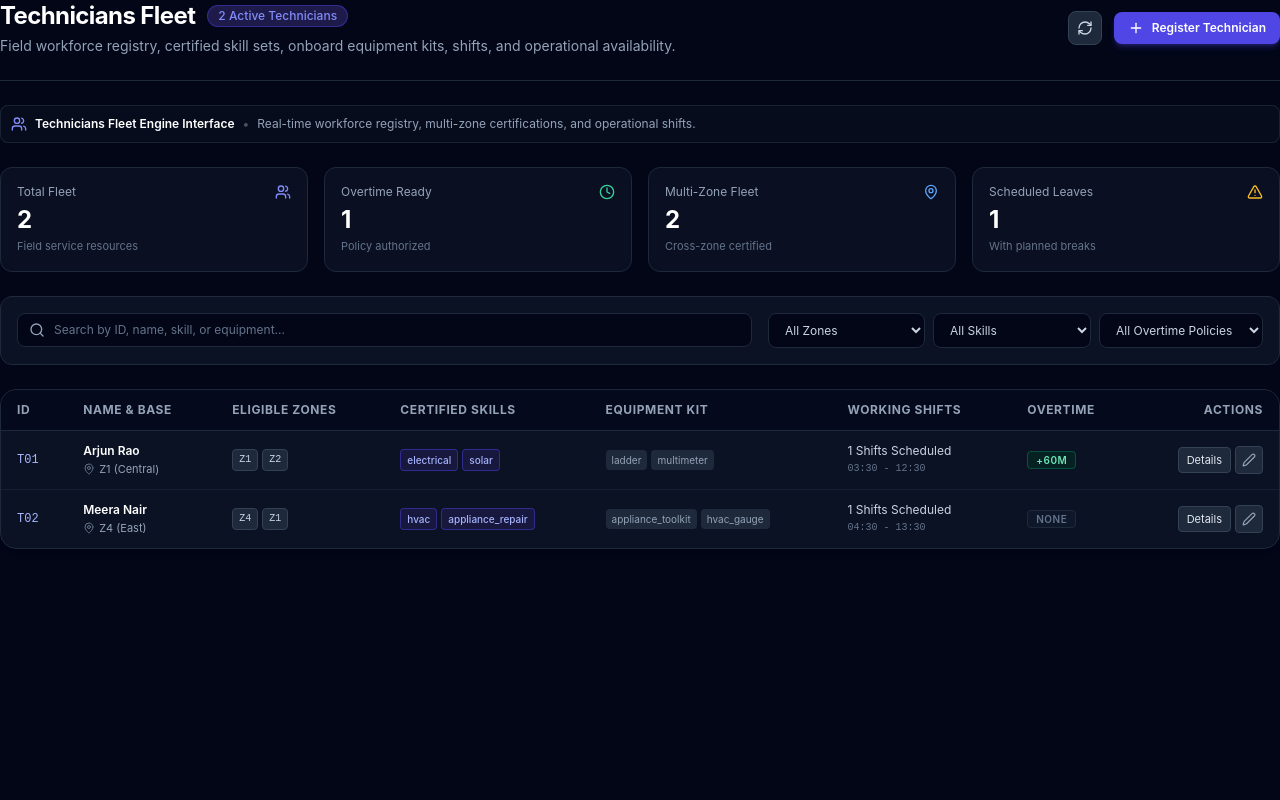
Scenario: TechniciansPage Component › opens edit modal and updates technician credentials
This screenshot has width=1280, height=800.
Expected: the text "Arjun Rao" is shown, [83,442,140,458]
Click the button named "Edit T01": (1249, 460) [1235,446,1263,474]
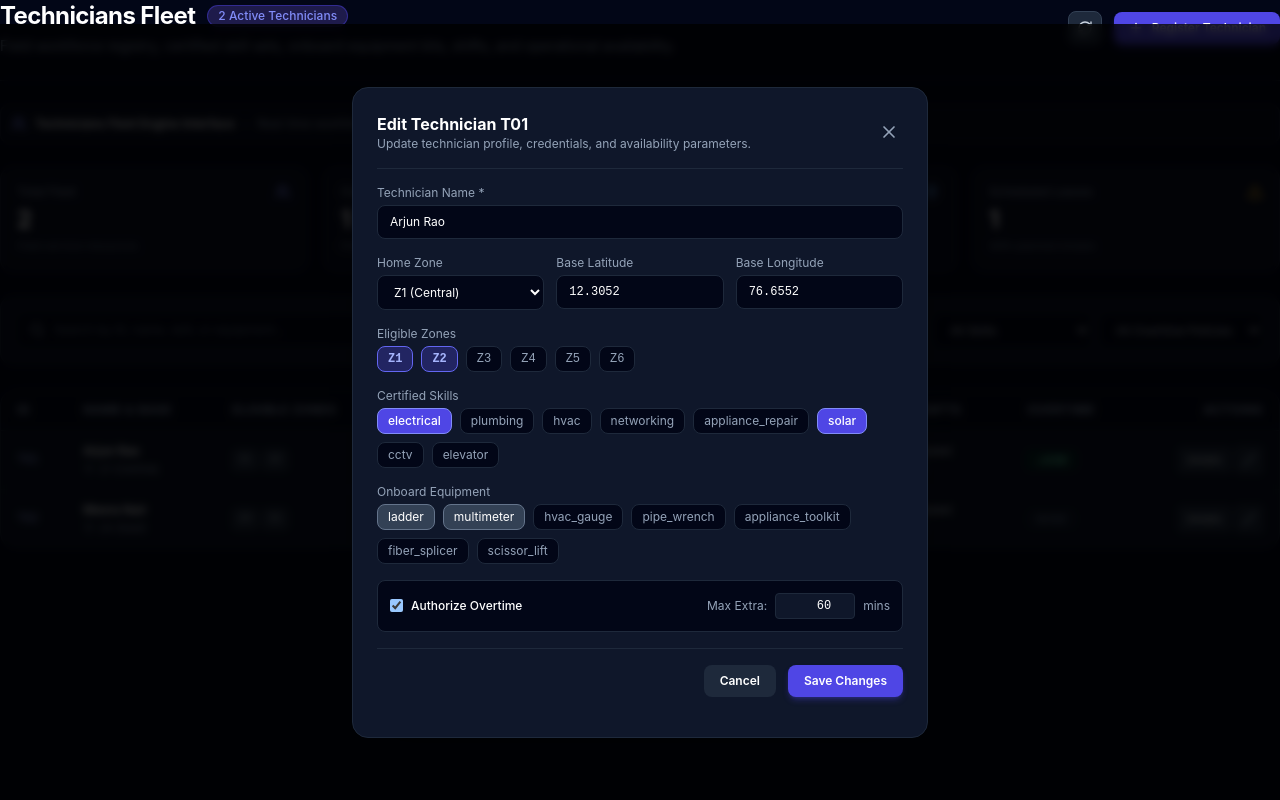
Now the element with test id "edit-technician-modal" is shown
Now the heading "Edit Technician T01" is shown, box [377,114,528,134]
Replace the text in the field showing "Arjun Rao" with "Arjun Rao Updated": (640, 222) [377,204,903,238]
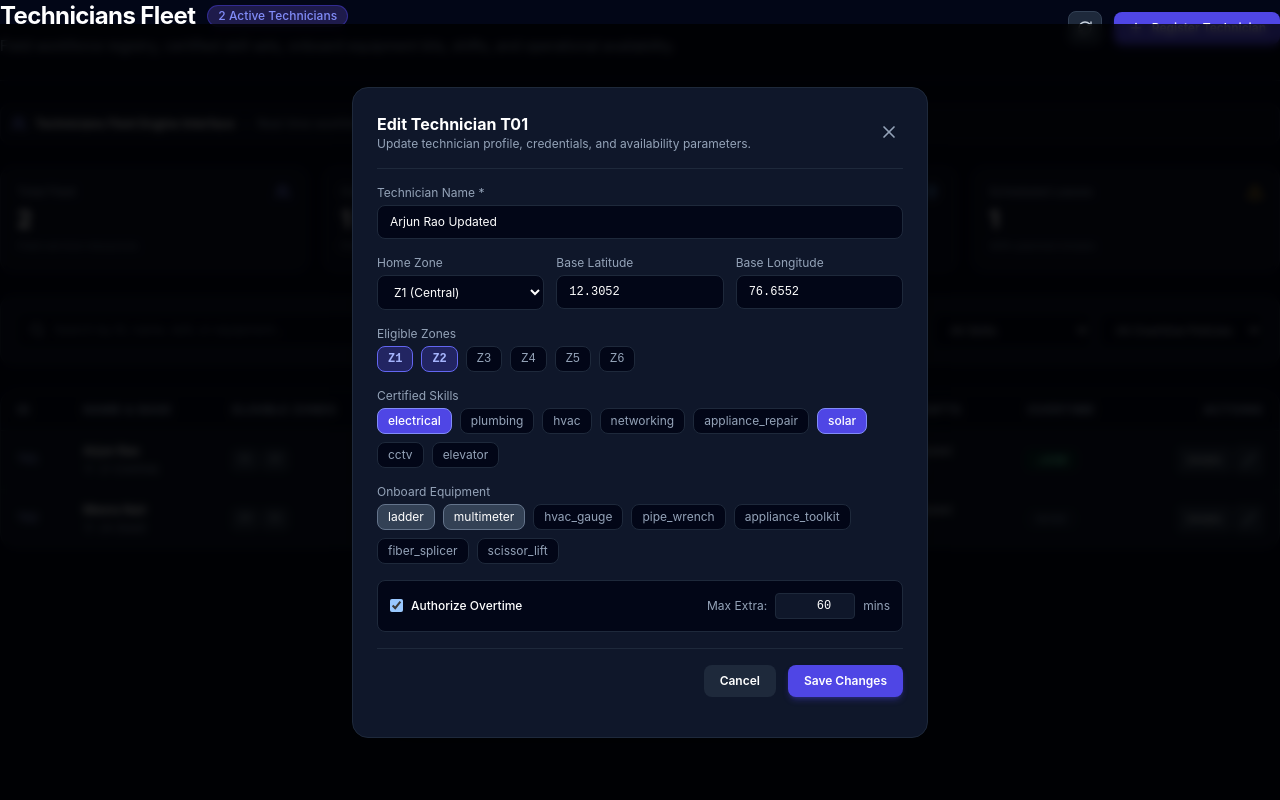
Click the button "Save Changes": (845, 680) [788,664,903,696]
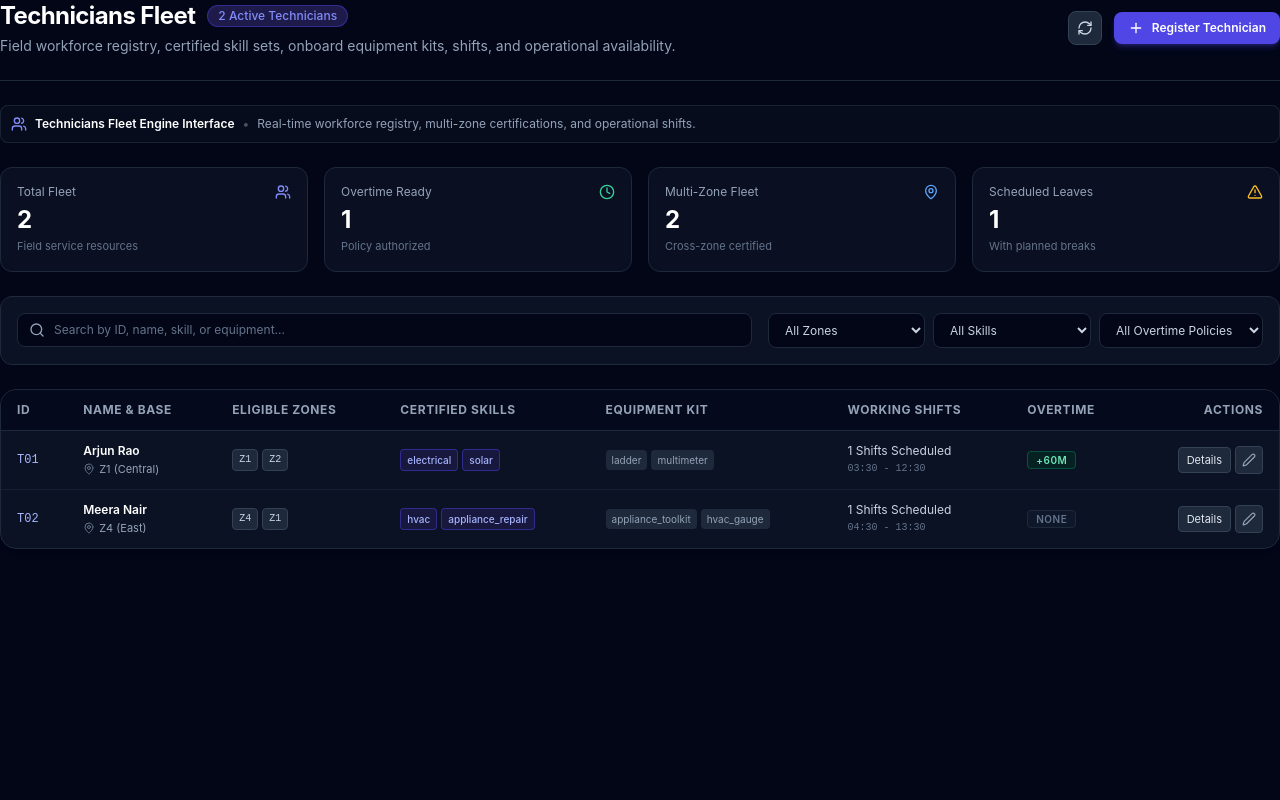
Now the element with test id "edit-technician-modal" is gone
